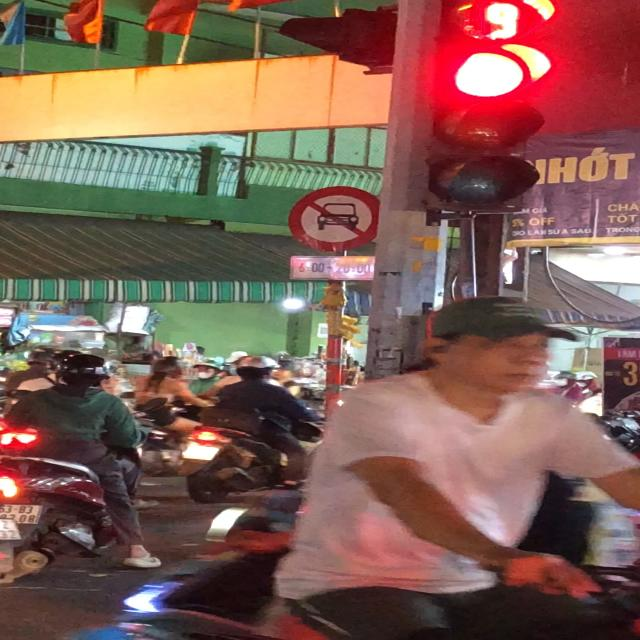Bien bao cam xe oto: (284, 182, 384, 258)
